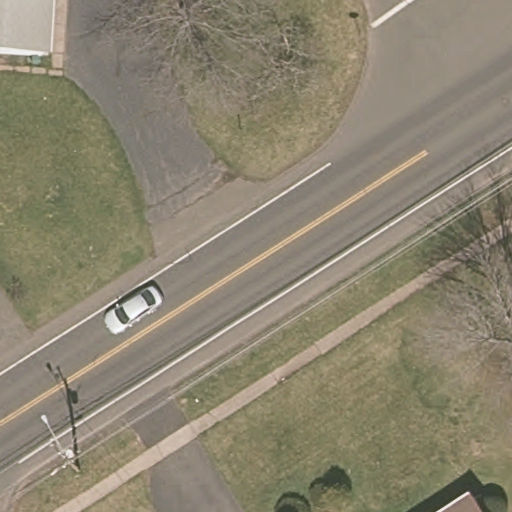DT: (42, 415, 80, 473)
